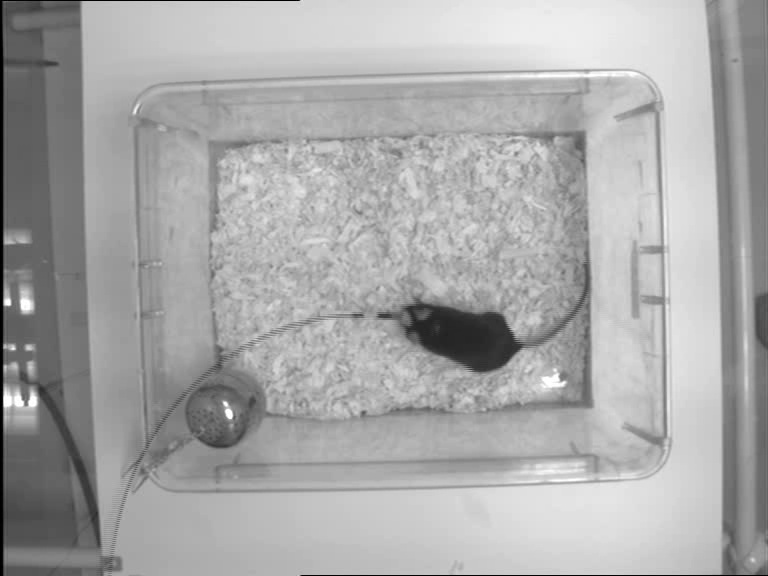mice: (396, 259, 589, 372)
